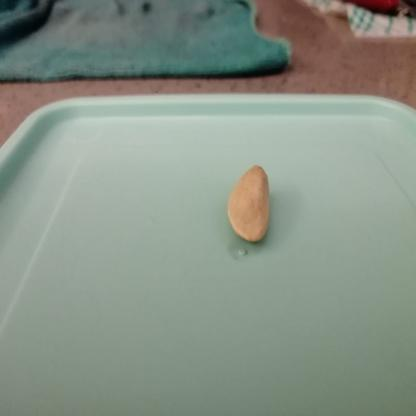pistachio: (223, 157, 278, 249)
